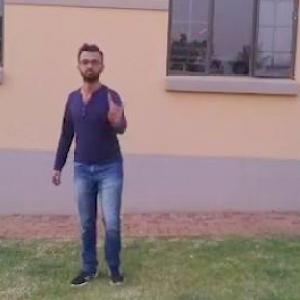takeoff-hand: (101, 84, 130, 129)
